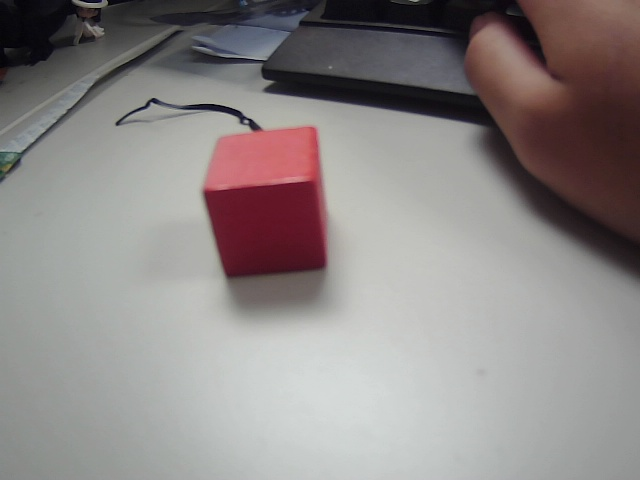redbox: (192, 122, 354, 293)
